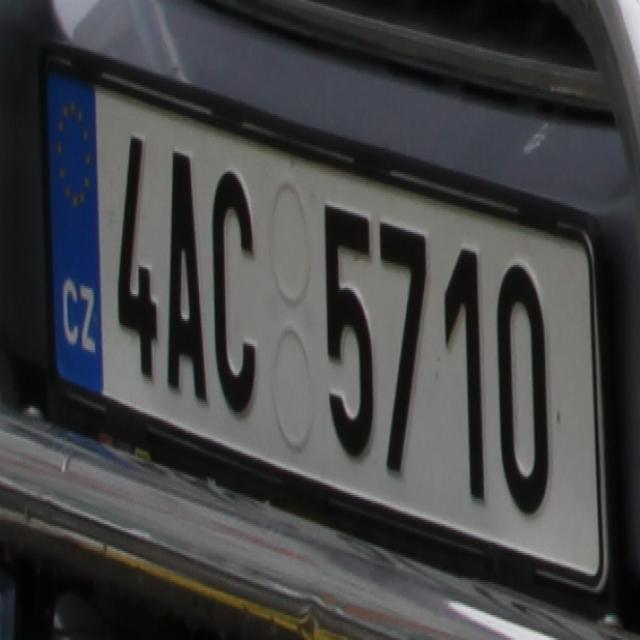0: (494, 255, 552, 522)
1: (441, 238, 486, 501)
4: (114, 132, 158, 386)
5: (320, 198, 374, 454)
7: (374, 213, 429, 474)
A: (162, 145, 210, 396)
C: (210, 168, 262, 414)
